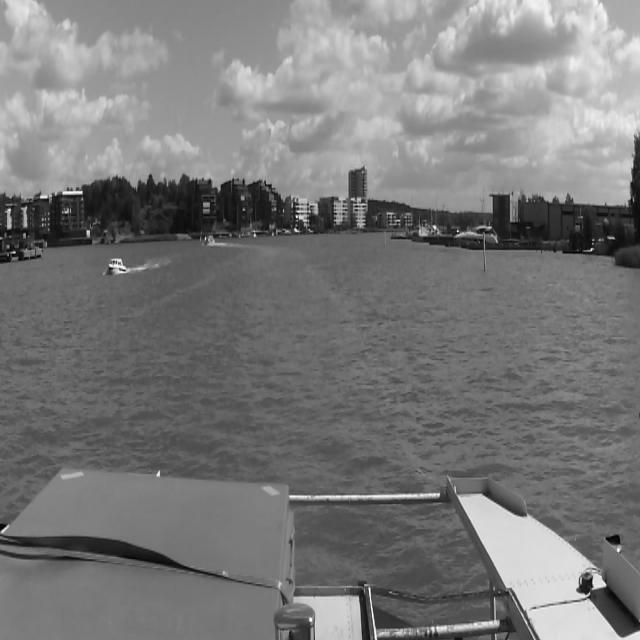ship: (455, 222, 495, 250), (105, 252, 126, 274), (207, 236, 214, 246)
